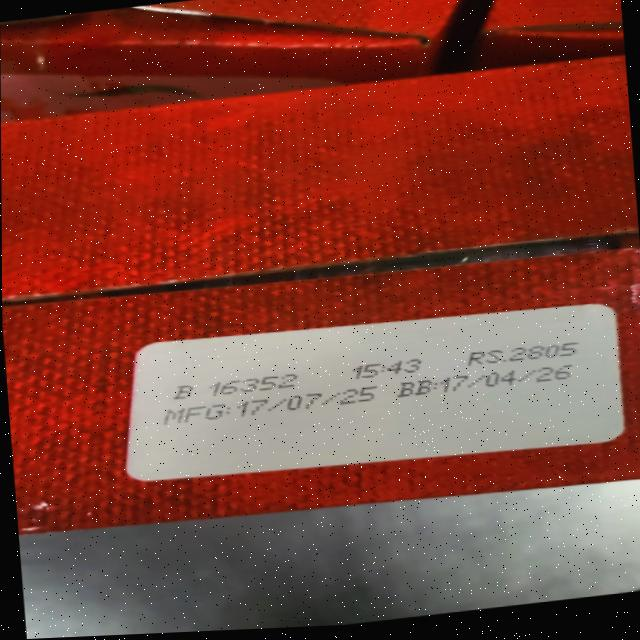BB: (394, 361, 577, 400)
Batch: (170, 370, 305, 401)
MFG: (161, 383, 380, 427)
RS: (464, 338, 582, 368)
TimeStamp: (349, 356, 427, 380)
